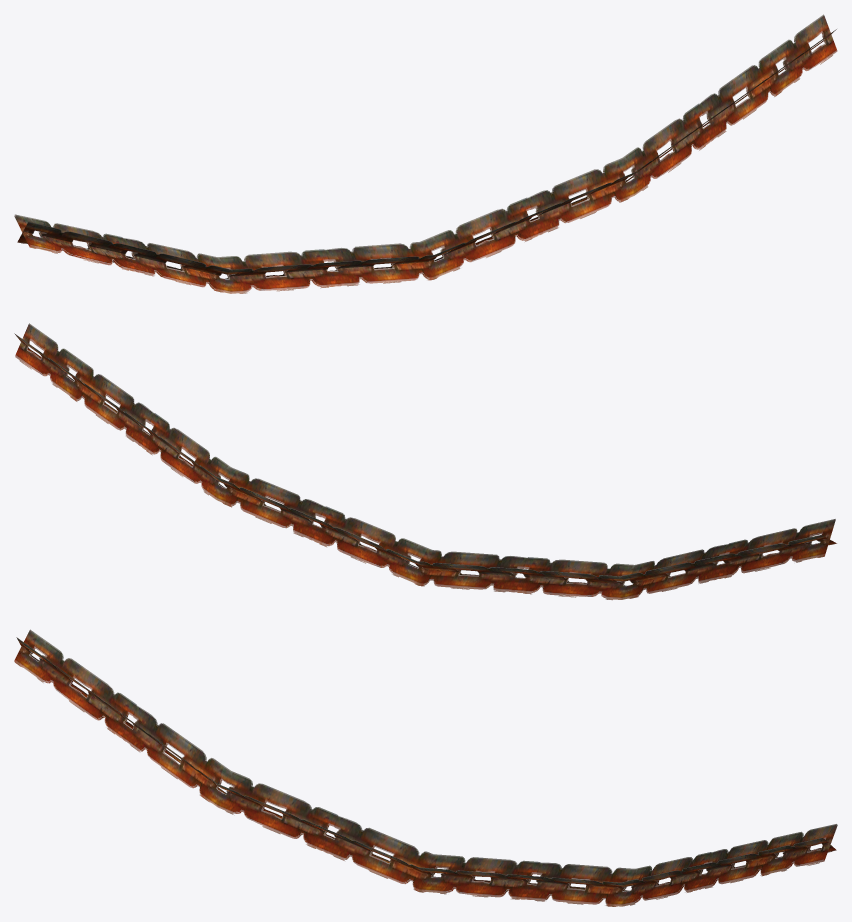
File: rysd_tiel_01.FBX
3 views of the same model, one above another, from view 1: azimuth 30°, elevation 25°; view 2: azimuth 150°, elevation 25°; view 3: azimuth 330°, elevation 25° (orthographic).
Parts seen in each view (by area): view 1: rysd_tiel_01; view 2: rysd_tiel_01; view 3: rysd_tiel_01.
Boxes of the visible parts, x1,y1,x2,y2 form: rysd_tiel_01: (14, 14, 837, 293); rysd_tiel_01: (14, 323, 836, 600); rysd_tiel_01: (14, 629, 837, 906).
Bounding box in the file's own units: 609 × 113 × 21.64.
